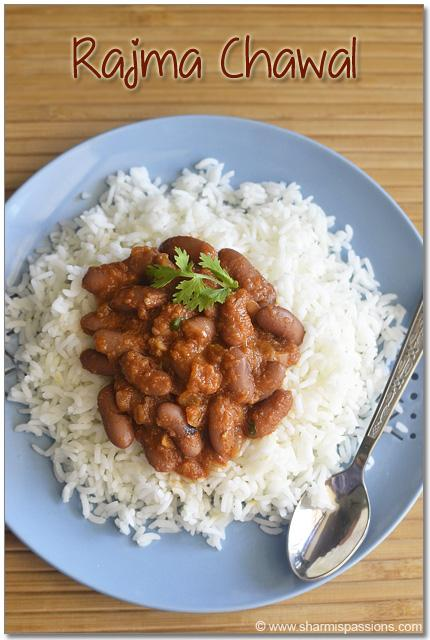rajma: (90, 253, 278, 428)
